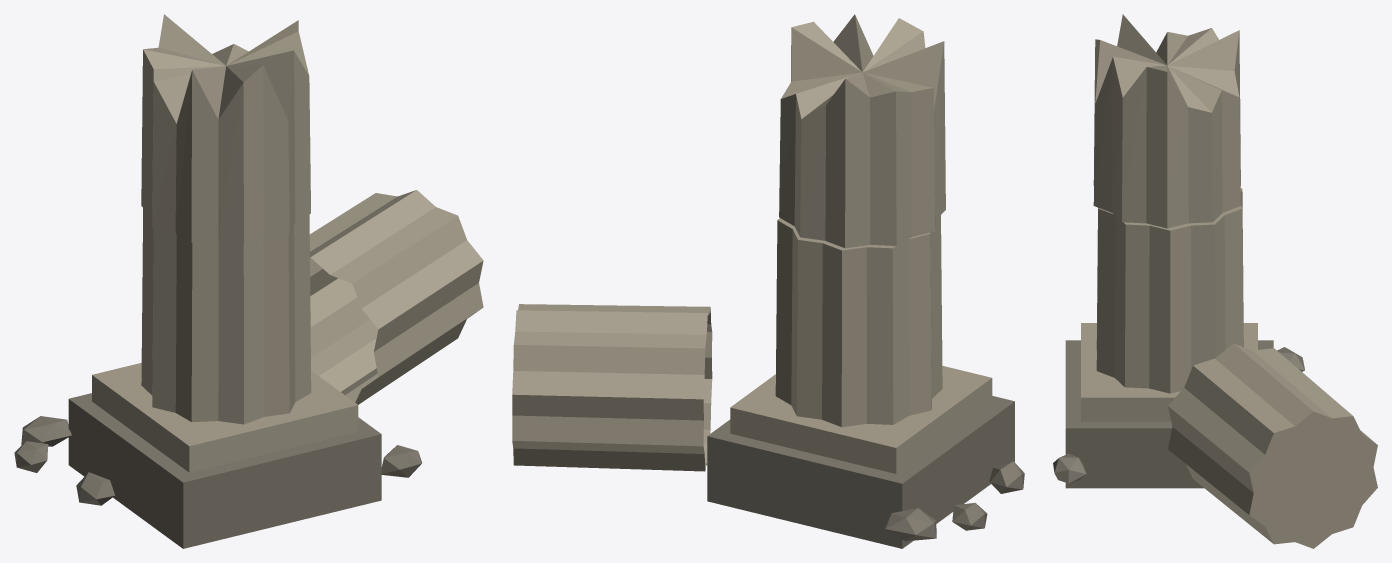
File: PillarBrokenB.glb
3 renders of one model, left to right at view 1: azimuth 30°, elevation 25°; view 2: azimuth 150°, elevation 25°; view 3: azimuth 270°, elevation 25°, orthographic. The views are drawn at different scales.
Visible parts, largest first — view 1: PillarBrokenB.stone, PillarBrokenB.stoneDark; view 2: PillarBrokenB.stone, PillarBrokenB.stoneDark; view 3: PillarBrokenB.stone, PillarBrokenB.stoneDark.
Part boxes in pixels (x1=…): PillarBrokenB.stone: x1=92, y1=14, x2=483, y2=472; PillarBrokenB.stoneDark: x1=14, y1=393, x2=421, y2=548; PillarBrokenB.stone: x1=512, y1=14, x2=992, y2=473; PillarBrokenB.stoneDark: x1=707, y1=396, x2=1024, y2=548; PillarBrokenB.stone: x1=1081, y1=14, x2=1377, y2=548; PillarBrokenB.stoneDark: x1=1053, y1=340, x2=1304, y2=488.
Size of the model in its own units: 11.11 by 10.09 by 7.35.
